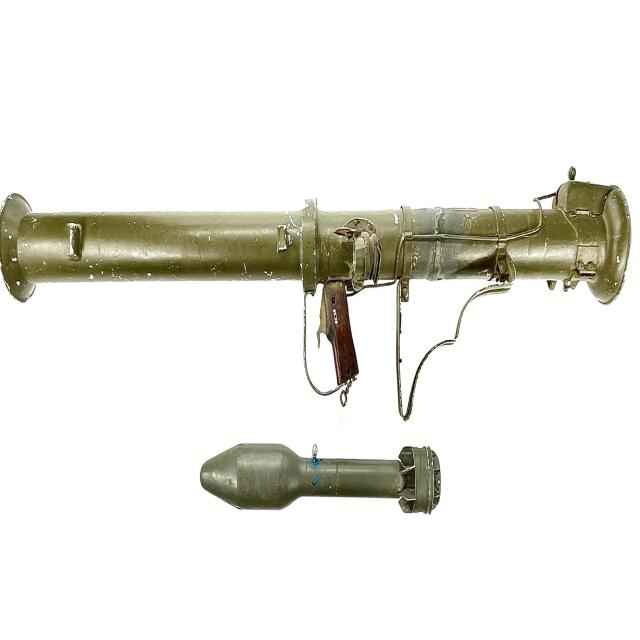Weapon: (0, 168, 631, 404)
